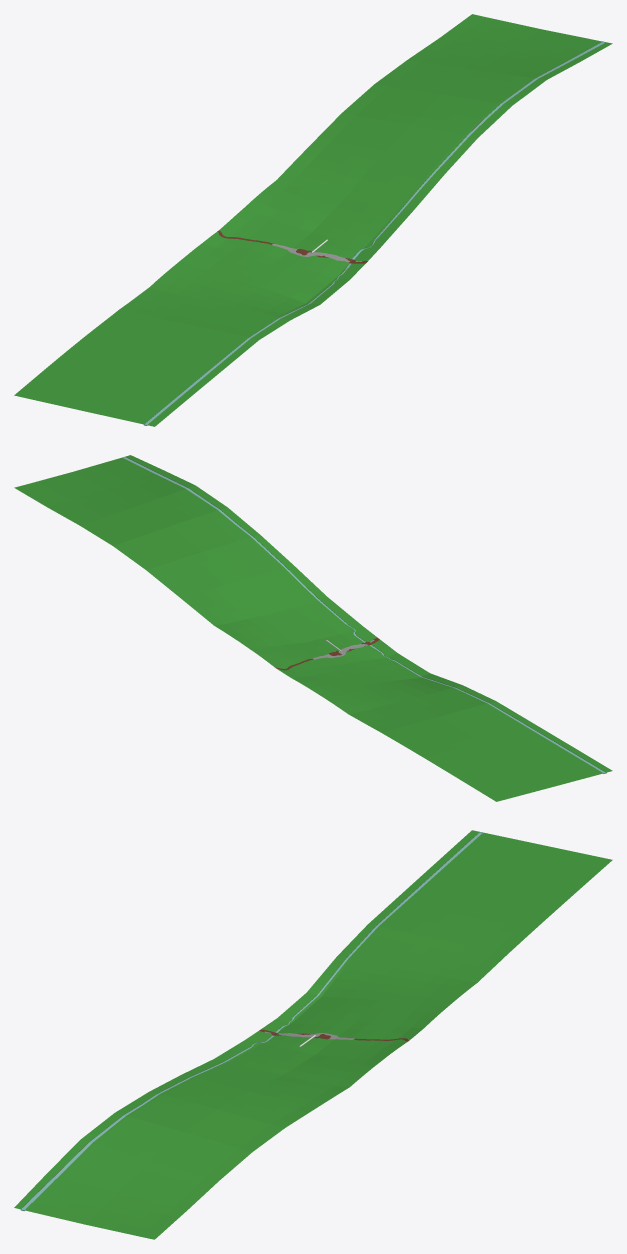
File: Dark woods.fbx
The picture shows the model from 3 angles, top to bottom: view 1: azimuth 90°, elevation 25°; view 2: azimuth 150°, elevation 25°; view 3: azimuth 270°, elevation 25°; orthographic projection. The views are drawn at different scales.
Parts seen in each view (by area): view 1: base, water; view 2: base, water; view 3: base, water.
Boxes of the visible parts, left/top/right/bottom form: base: left=14, top=14, right=612, bottom=426; water: left=144, top=41, right=605, bottom=425; base: left=14, top=455, right=612, bottom=801; water: left=123, top=457, right=606, bottom=773; base: left=14, top=830, right=612, bottom=1239; water: left=21, top=832, right=482, bottom=1211.
Size of the model in its own units: 6048 by 290 by 3723.
